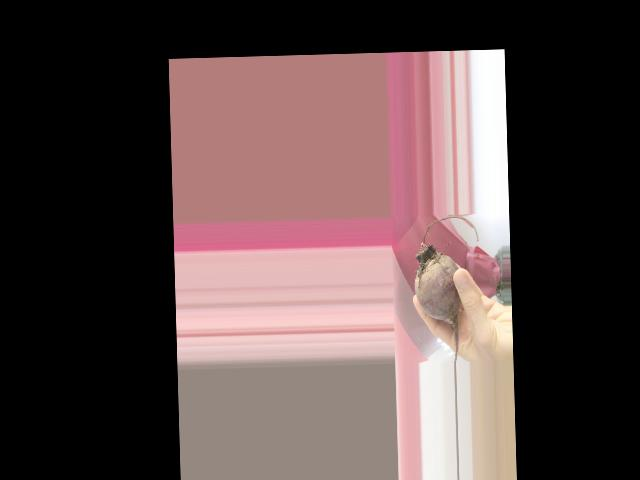beet: (413, 215, 482, 363)
